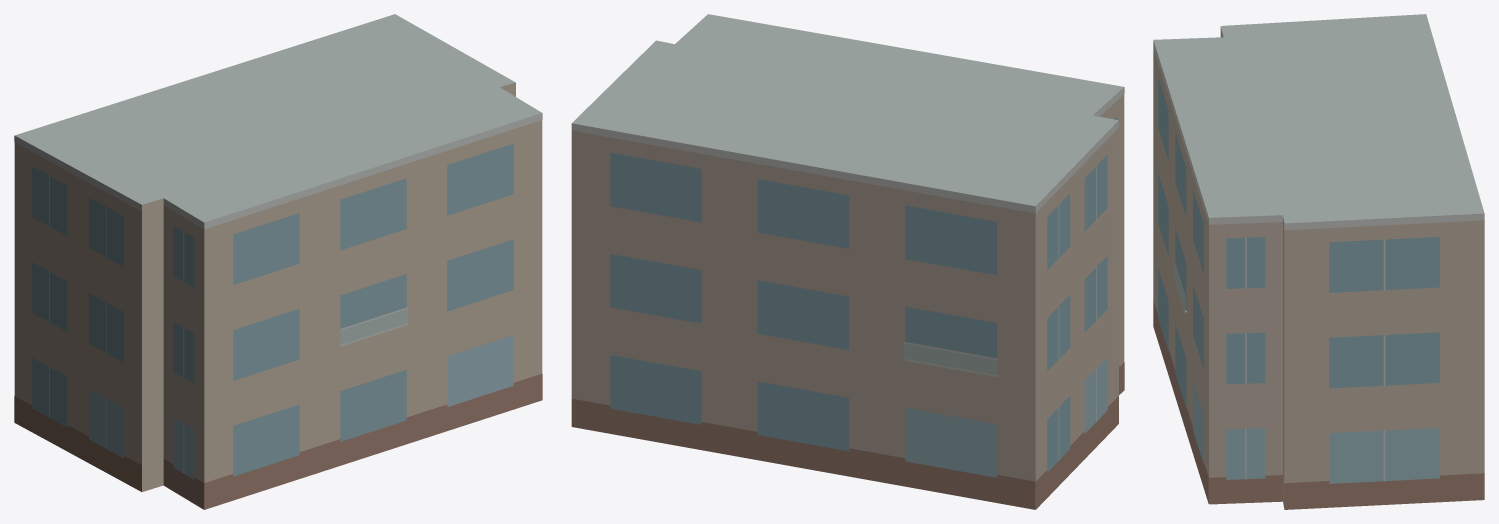
The model's file is survey-upis-33045299.glb.
3 views of the same model, side by side, from view 1: azimuth 30°, elevation 25°; view 2: azimuth 150°, elevation 25°; view 3: azimuth 270°, elevation 25° (orthographic). The views are drawn at different scales.
Parts seen in each view (by area): view 1: survey-upis-33045299.tmp; view 2: survey-upis-33045299.tmp; view 3: survey-upis-33045299.tmp.
Part boxes in pixels (<box>): survey-upis-33045299.tmp: <box>14,14,542,509</box>; survey-upis-33045299.tmp: <box>571,14,1124,509</box>; survey-upis-33045299.tmp: <box>1153,14,1484,509</box>.
Size of the model in its own units: 16 by 10.2 by 10.7.
